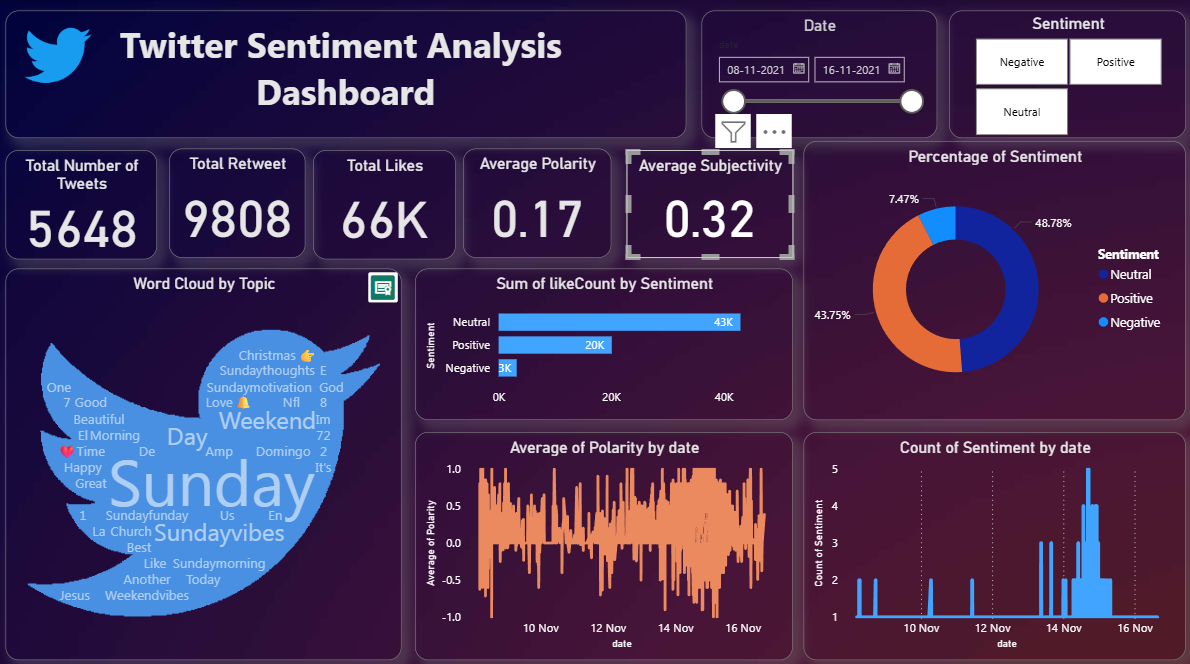

The page's visual inventory and layout, read from the dashboard file:
{"tool":"powerbi","page":{"name":"Page 1","canvas":[1280,720],"ordinal":0},"visuals":[{"type":"card","title":"Total Number of Tweets","fields":{"Values":["CountNonNull(Sample Data Cleaned (2).Sentiment)"]},"box":[11.1,159.1,160.7,116.1],"z":0},{"type":"card","title":"Average Polarity","fields":{"Values":["Avg(Sample Data Cleaned (2).Polarity)"]},"box":[496.3,157.5,157.5,116.1],"z":1000},{"type":"card","title":"Total Likes ","fields":{"Values":["Sum(Sample Data Cleaned (2).likeCount)"]},"box":[337.2,159.1,151.1,116.1],"z":2000},{"type":"card","title":"Total Retweet","fields":{"Values":["Sum(Sample Data Cleaned (2).retweetCount)"]},"box":[184.5,157.5,144.7,116.1],"z":3000},{"type":"lineChart","fields":{"Y":["CountNonNull(Sample Data Cleaned (2).Sentiment)"],"Category":["Sample Data Cleaned (2).date"]},"box":[857.3,458.1,405.6,241.8],"z":4000},{"type":"lineChart","fields":{"Category":["Sample Data Cleaned (2).date"],"Y":["Avg(Sample Data Cleaned (2).Polarity)"]},"box":[445.4,458.1,400.8,241.8],"z":5000},{"type":"WordCloud5550983e166911eebe560242ac120002","title":"Word Cloud by Topic","fields":{"categories":["Sample Data Cleaned (2).content"]},"box":[11.1,284.7,419.9,415.1],"z":6000},{"type":"donutChart","title":"Percentage of Sentiment","fields":{"Category":["Sample Data Cleaned (2).Sentiment"],"Y":["CountNonNull(Sample Data Cleaned (2).Sentiment)"]},"box":[857.3,149.5,405.6,295.9],"z":7000},{"type":"barChart","title":"Sum of likeCount by Sentiment","fields":{"Category":["Sample Data Cleaned (2).Sentiment"],"Y":["Sum(Sample Data Cleaned (2).likeCount)"]},"box":[445.4,284.7,400.8,160.7],"z":8000},{"type":"slicer","title":"Date","fields":{"Values":["Sample Data Cleaned (2).date"]},"box":[749.2,11.1,249.7,135.2],"z":10000},{"type":"slicer","title":"Sentiment","fields":{"Values":["Sample Data Cleaned (2).Sentiment"]},"box":[1011.6,11.1,251.3,135.2],"z":11000},{"type":"textbox","box":[11.1,11.1,722.1,135.2],"z":13000},{"type":"card","title":"Average Subjectivity","fields":{"Values":["Avg(Sample Data Cleaned (2).Subjectivity)"]},"box":[669.6,159.1,176.6,114.5],"z":13001},{"type":"image","box":[0,23.9,133.6,70],"z":13002}]}

Visuals, with their boxes in screenshot pixels (x1, y1, x2, y2), scaled from the page's 1280x720 canvas onto the 1190x664 screenshot:
"Total Number of Tweets" card: bbox=(10, 147, 160, 254)
"Average Polarity" card: bbox=(461, 145, 608, 252)
"Total Likes " card: bbox=(313, 147, 454, 254)
"Total Retweet" card: bbox=(172, 145, 306, 252)
lineChart - CountNonNull(Sample Data Cleaned (2).Sentiment) x Sample Data Cleaned (2).date: bbox=(797, 422, 1174, 645)
lineChart - Sample Data Cleaned (2).date x Avg(Sample Data Cleaned (2).Polarity): bbox=(414, 422, 787, 645)
"Word Cloud by Topic" WordCloud5550983e166911eebe560242ac120002: bbox=(10, 263, 401, 645)
"Percentage of Sentiment" donutChart: bbox=(797, 138, 1174, 411)
"Sum of likeCount by Sentiment" barChart: bbox=(414, 263, 787, 411)
"Date" slicer: bbox=(697, 10, 929, 135)
"Sentiment" slicer: bbox=(940, 10, 1174, 135)
textbox: bbox=(10, 10, 682, 135)
"Average Subjectivity" card: bbox=(623, 147, 787, 252)
image: bbox=(0, 22, 124, 87)
